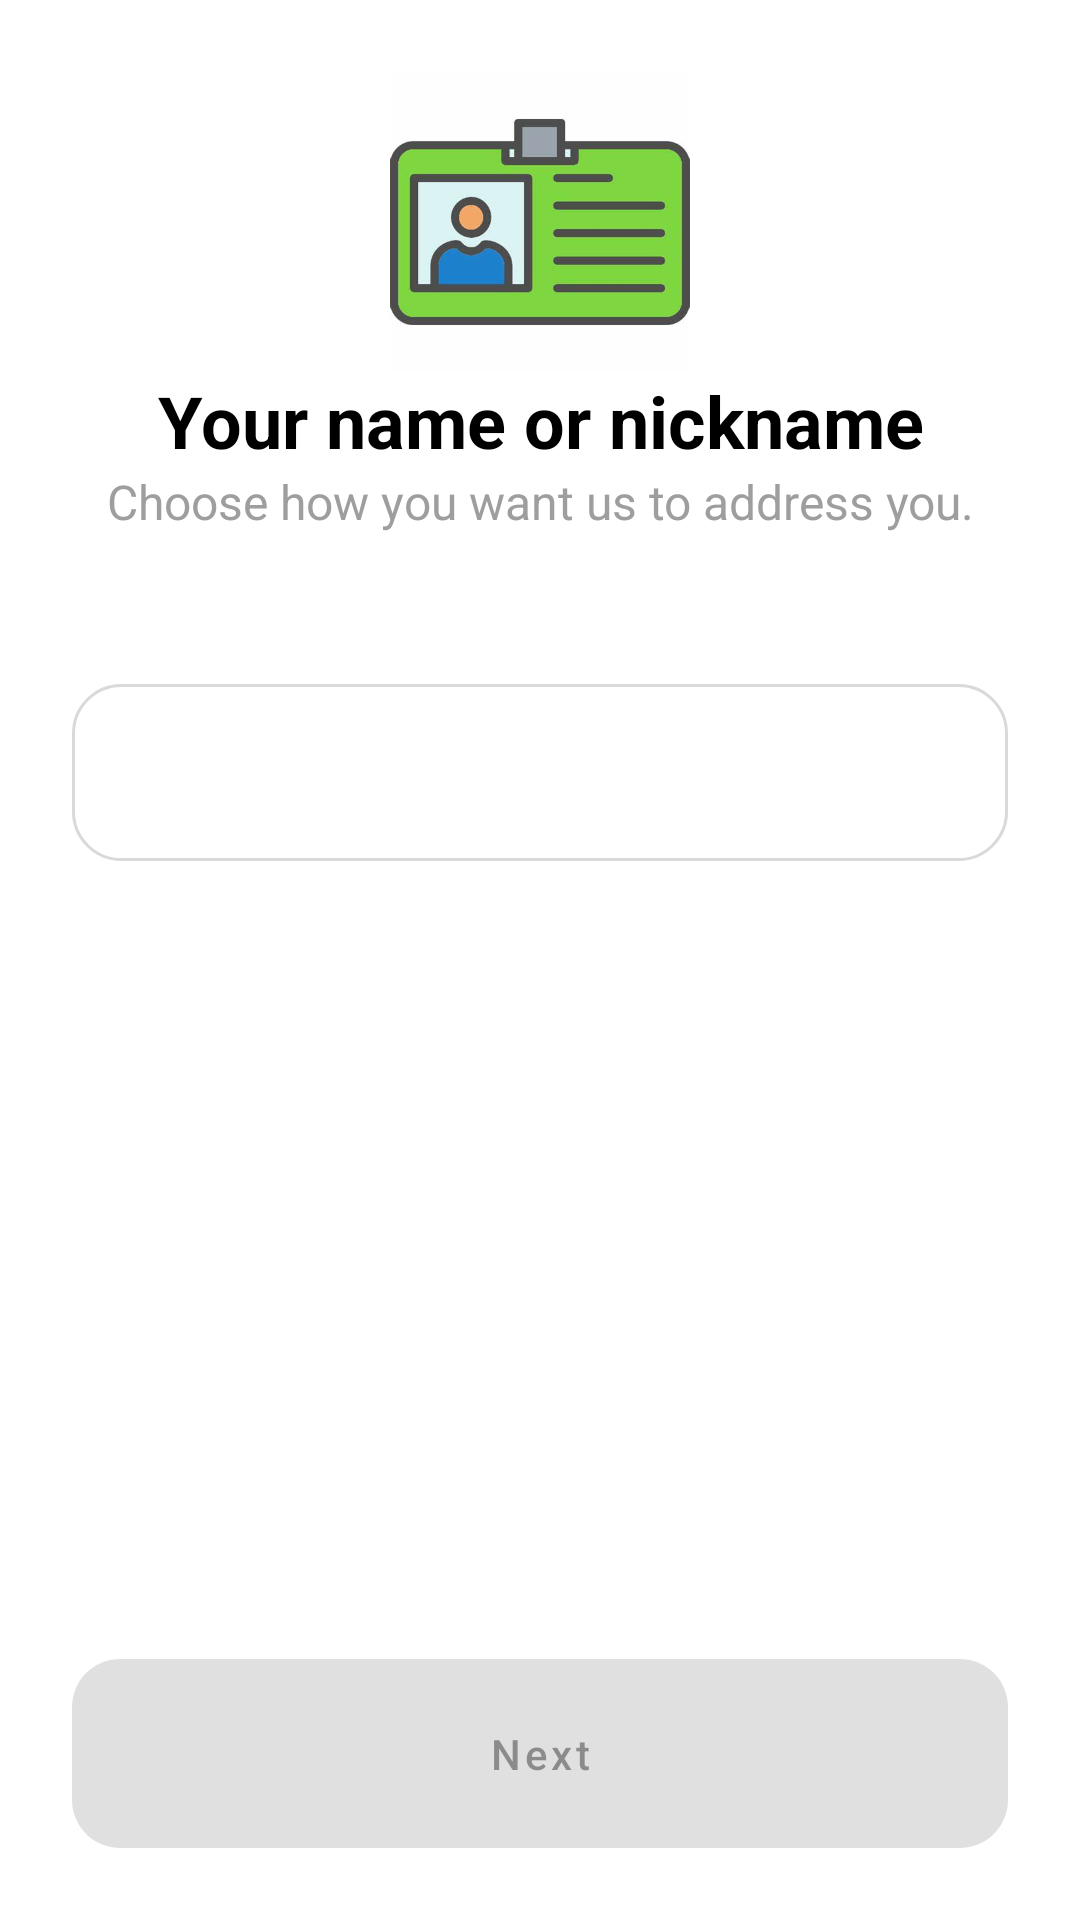

Icons on this 1080px×1920px Android screen, each with the point to tap as [x,y]:
card: [540,222]
